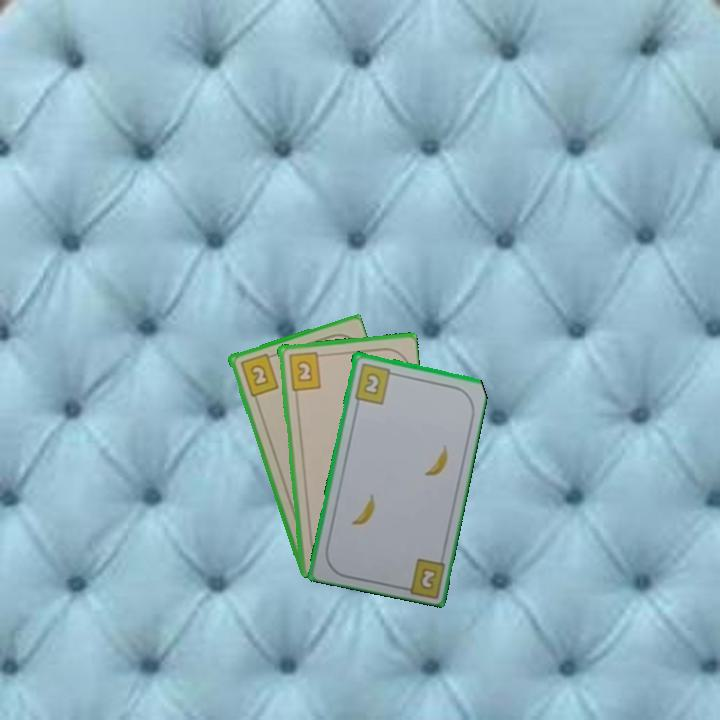2b: (351, 359, 399, 406), (236, 350, 281, 399), (285, 348, 327, 393), (418, 566, 437, 590)
